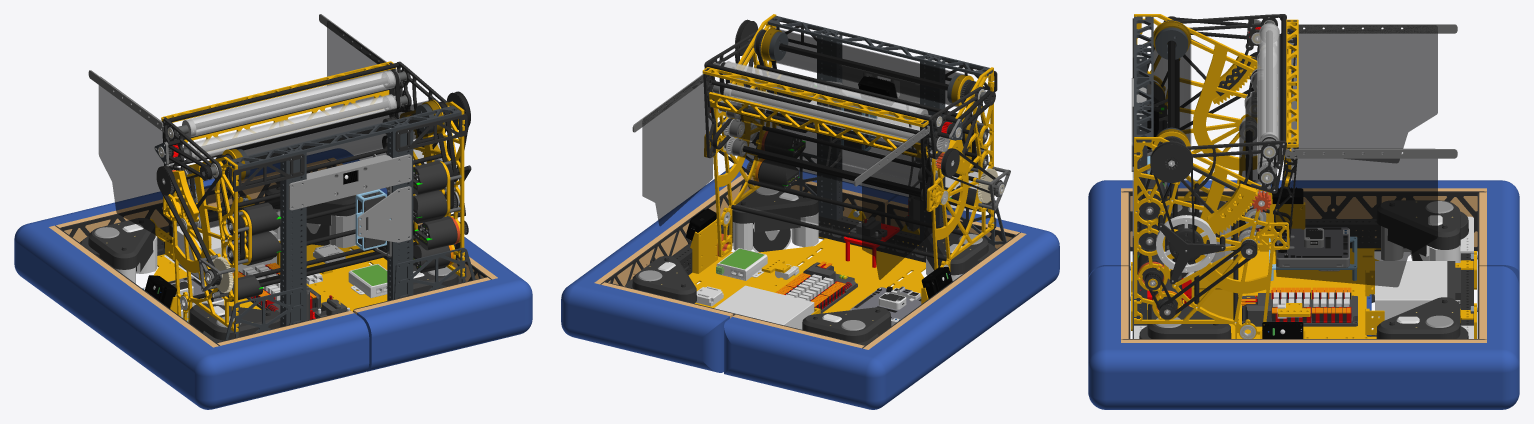
3 renders of one model, left to right at view 1: azimuth 30°, elevation 25°; view 2: azimuth 150°, elevation 25°; view 3: azimuth 270°, elevation 25°, orthographic. The views are drawn at different scales.
Visible parts, largest first — view 1: Bumper foam-01, Bumper foam-02, Part 1 (×3), Block MK5i (×4), 3354-2026CS-4000-PL_1.5M_PC-02, Tube 2"x1"x18" (×2), Kraken X60 Brushless Motor (×6), 3354-2026CS-4000-PL_1.5M_PC-03, 3354-2026CS-4000-PL_70_1/4_AL-07, Policarbonate Tube, 3354-2026-CS2-LL-PETG-1, 3354-2026-Chasis-Bumper-4 (×4) (+29 smaller); view 2: Bumper foam-01, Bumper foam-02, Part 1 (×5), Block MK5i (×4), 3354-2026CS-4000-PL_1.5M_PC-03, 3354-2026CS-4000-PL_1.5M_PC-01, 3354-2026CS-4000-PL_1.5M_PC-02, Policarbonate Tube, 3354-2026-Chasis-PL-1/8AL-1, Tube 2"x1"x18" (×2), 3354-2026CS-4000-PL_70_1/4_AL-07, 3/8" Round Shaft (22") (×4) (+29 smaller); view 3: Bumper foam-02, 3354-2026CS-4000-PL_1.5M_PC-01, 3354-2026CS-4000-PL_1.5M_PC-02, Block MK5i (×4), 3354-2026CS-4000-PL_70_1/4_AL-01, Bumper foam-01, 3354-2026-Chasis-PL-1/8AL-1, 3354-2026CS-4000-PL_70_1/4_AL-07, Policarbonate Tube, 3354-2026-Chasis-Bumper-3 (×2), Part 1 (×4), Robot Battery (+31 smaller).
Part boxes in pixels (bbox=[...]): Bumper foam-01: bbox=[14, 191, 369, 409]; Bumper foam-02: bbox=[189, 148, 532, 371]; Part 1 (×3): bbox=[186, 70, 396, 204]; Block MK5i (×4): bbox=[80, 183, 465, 342]; 3354-2026CS-4000-PL_1.5M_PC-02: bbox=[98, 76, 172, 243]; Tube 2"x1"x18" (×2): bbox=[280, 123, 413, 326]; Kraken X60 Brushless Motor (×6): bbox=[229, 160, 457, 272]; 3354-2026CS-4000-PL_1.5M_PC-03: bbox=[194, 136, 446, 297]; 3354-2026CS-4000-PL_70_1/4_AL-07: bbox=[172, 156, 238, 331]; Policarbonate Tube: bbox=[226, 99, 443, 181]; 3354-2026-CS2-LL-PETG-1: bbox=[288, 154, 411, 210]; 3354-2026-Chasis-Bumper-4 (×4): bbox=[56, 159, 490, 345]; Bumper foam-01: bbox=[724, 195, 1059, 409]; Bumper foam-02: bbox=[561, 158, 897, 372]; Part 1 (×5): bbox=[723, 61, 924, 200]; Block MK5i (×4): bbox=[625, 186, 996, 345]; 3354-2026CS-4000-PL_1.5M_PC-03: bbox=[734, 66, 977, 254]; 3354-2026CS-4000-PL_1.5M_PC-01: bbox=[642, 75, 713, 226]; 3354-2026CS-4000-PL_1.5M_PC-02: bbox=[862, 126, 933, 279]; Policarbonate Tube: bbox=[761, 27, 968, 106]; 3354-2026-Chasis-PL-1/8AL-1: bbox=[688, 236, 925, 313]; Tube 2"x1"x18" (×2): bbox=[817, 35, 945, 241]; 3354-2026CS-4000-PL_70_1/4_AL-07: bbox=[931, 67, 994, 271]; 3/8" Round Shaft (22") (×4): bbox=[731, 64, 977, 260]; Bumper foam-02: bbox=[1088, 266, 1519, 409]; 3354-2026CS-4000-PL_1.5M_PC-01: bbox=[1273, 148, 1437, 287]; 3354-2026CS-4000-PL_1.5M_PC-02: bbox=[1282, 25, 1437, 162]; Block MK5i (×4): bbox=[1134, 200, 1473, 338]; 3354-2026CS-4000-PL_70_1/4_AL-01: bbox=[1134, 137, 1273, 338]; Bumper foam-01: bbox=[1088, 180, 1519, 285]; 3354-2026-Chasis-PL-1/8AL-1: bbox=[1147, 248, 1380, 338]; 3354-2026CS-4000-PL_70_1/4_AL-07: bbox=[1134, 14, 1262, 250]; Policarbonate Tube: bbox=[1152, 21, 1191, 151]; 3354-2026-Chasis-Bumper-3 (×2): bbox=[1121, 188, 1486, 342]; Part 1 (×4): bbox=[1239, 23, 1279, 235]; Robot Battery: bbox=[1375, 261, 1460, 335].
Size of the model in its own units: 0.8388 by 0.5591 by 0.8388.
